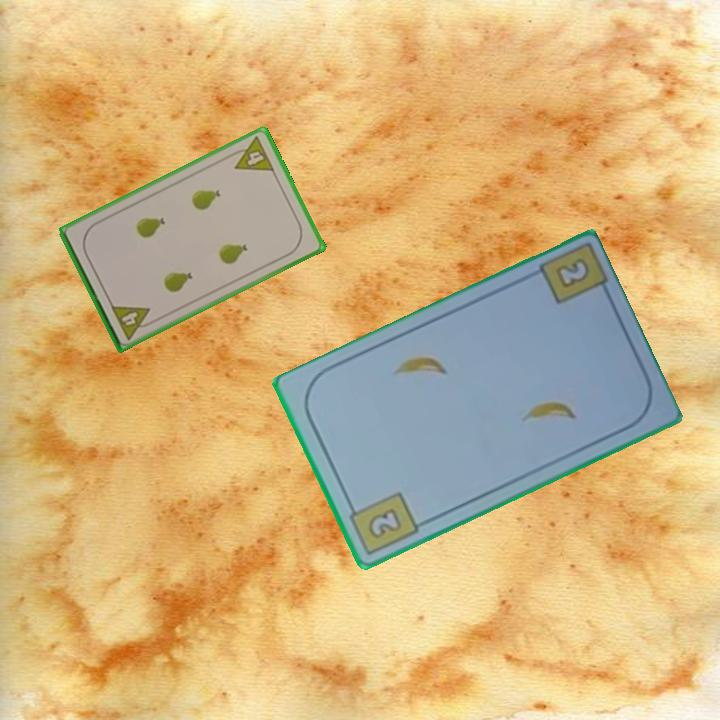2b: (343, 488, 422, 558), (551, 254, 593, 292)
4p: (225, 133, 277, 174), (107, 301, 158, 342)
